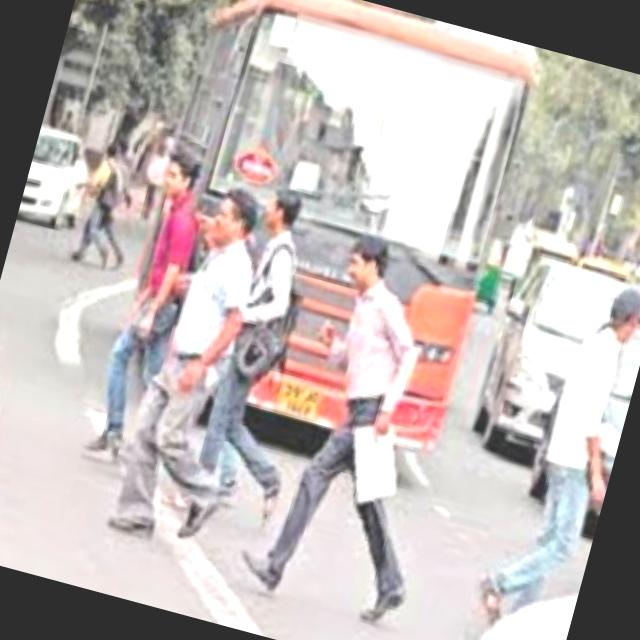Person: (232, 222, 490, 628), (98, 172, 290, 554), (469, 267, 640, 636), (178, 183, 354, 541), (74, 141, 220, 470)
